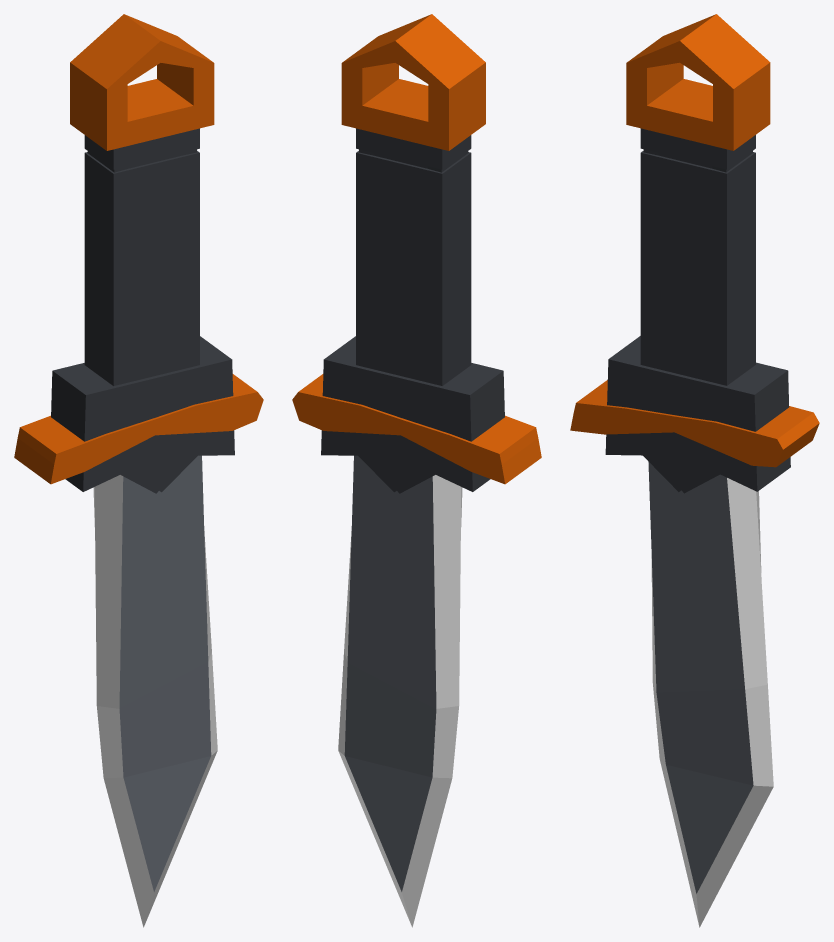
Rendered from battle-knief-by-maverickfx-3MPaN7WAMw.glb.
3 renders of one model, left to right at view 1: azimuth 30°, elevation 25°; view 2: azimuth 150°, elevation 25°; view 3: azimuth 330°, elevation 25°, orthographic.
Parts seen in each view (by area): view 1: Cube; view 2: Cube; view 3: Cube.
Part boxes in pixels (x1,y1,x2,y2): Cube: (14, 14, 263, 927); Cube: (292, 14, 541, 927); Cube: (570, 14, 819, 927).
Bounding box in the file's own units: 1.28 × 5.17 × 0.3823.
Materials: 1 (1 with a texture image).
